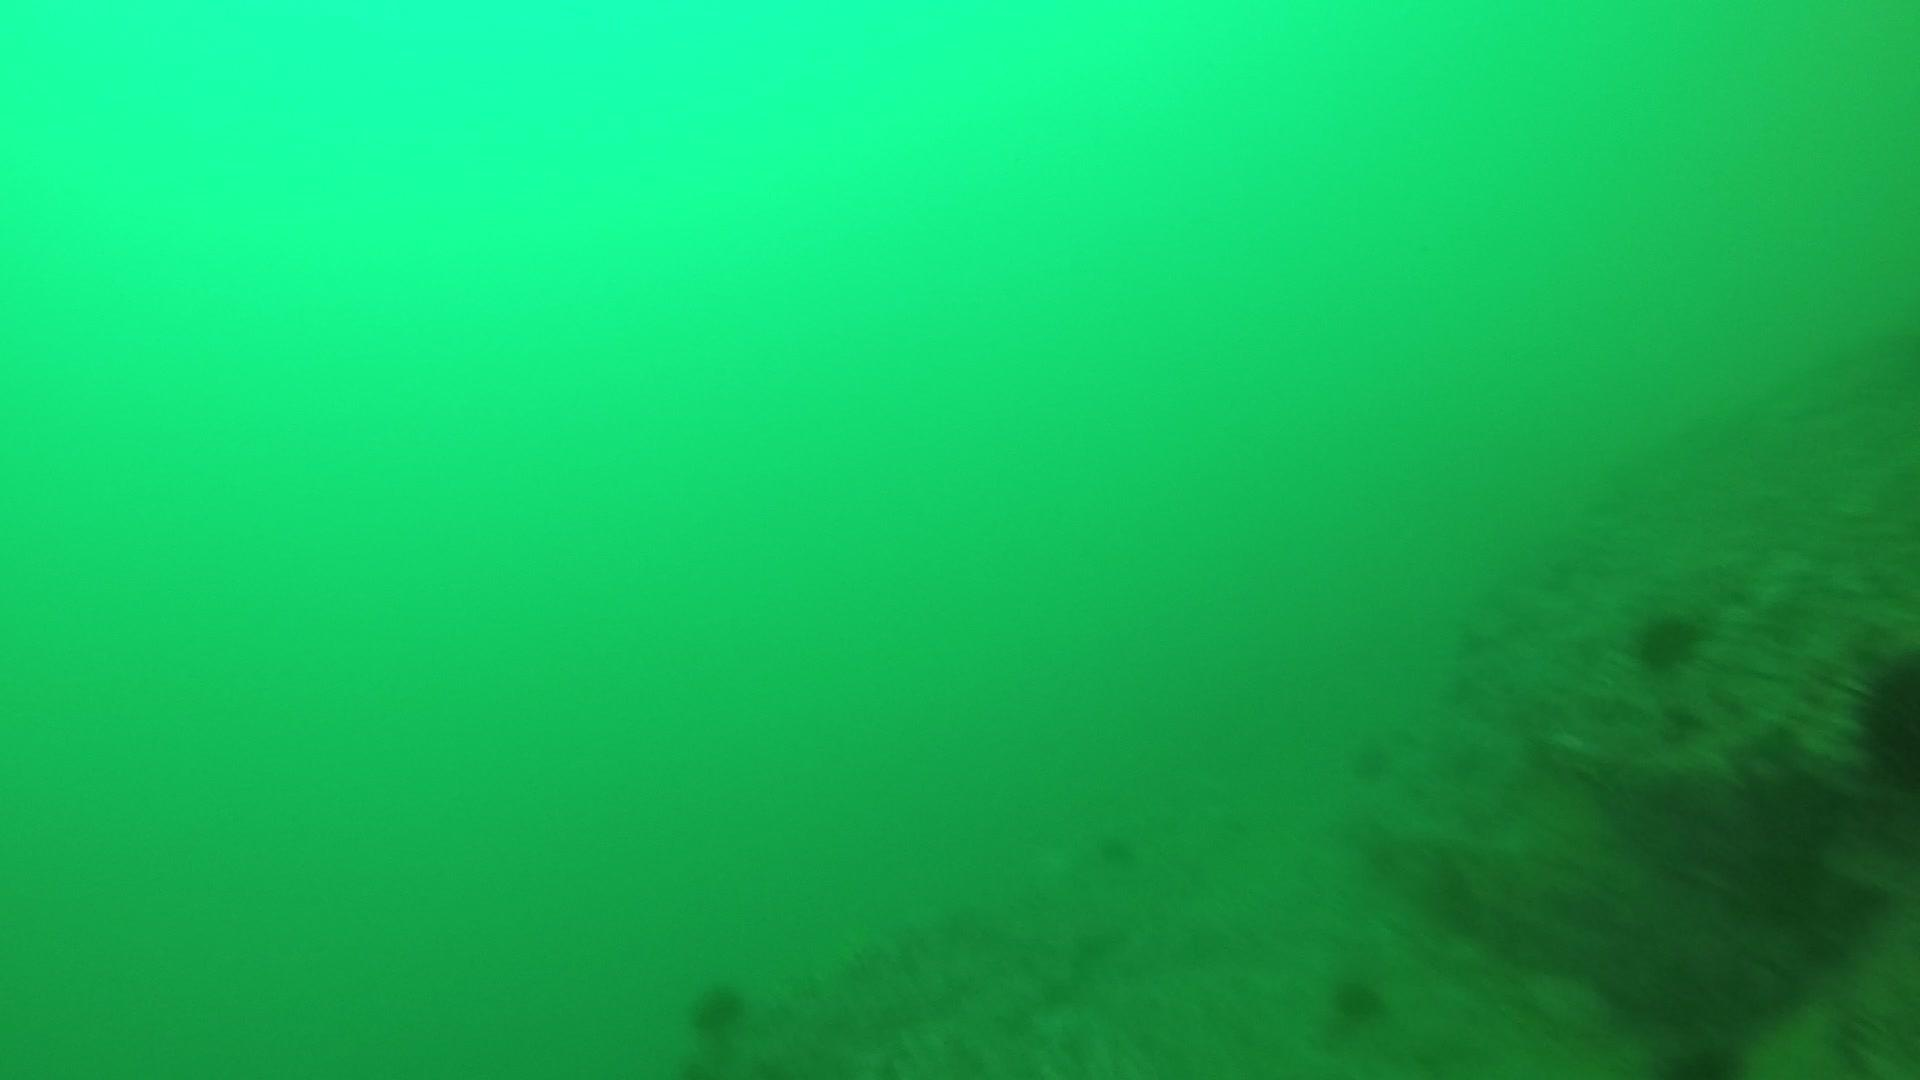echinus: (1842, 641, 1919, 793), (1626, 603, 1709, 675), (682, 976, 753, 1040), (1323, 967, 1391, 1029)
